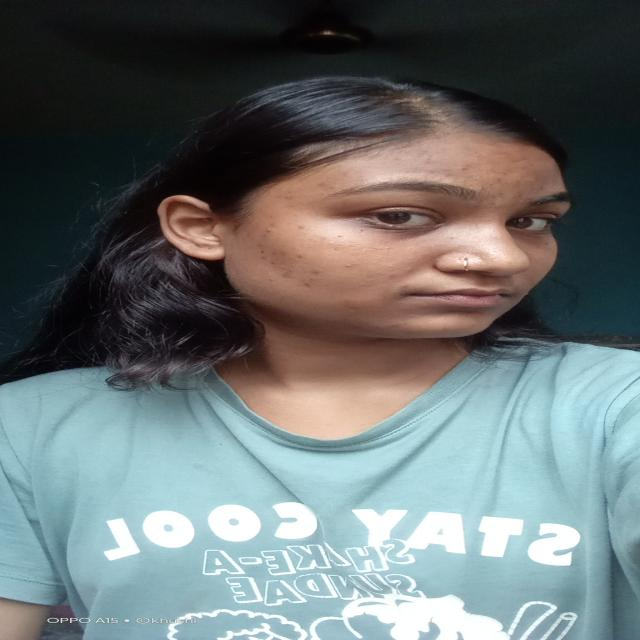Acne: (400, 267, 418, 274), (294, 254, 309, 262), (338, 170, 352, 178), (279, 272, 296, 278), (389, 156, 406, 162), (282, 193, 296, 200), (302, 280, 314, 288), (310, 270, 326, 276), (534, 186, 548, 192), (297, 224, 307, 232), (267, 221, 280, 227), (514, 193, 525, 200), (397, 283, 408, 290), (341, 263, 355, 268), (494, 177, 504, 184), (356, 282, 370, 287), (278, 264, 289, 270), (387, 272, 398, 278), (325, 185, 338, 190), (257, 249, 267, 255), (460, 164, 474, 168), (316, 182, 326, 187), (264, 228, 272, 234), (534, 177, 542, 181)
